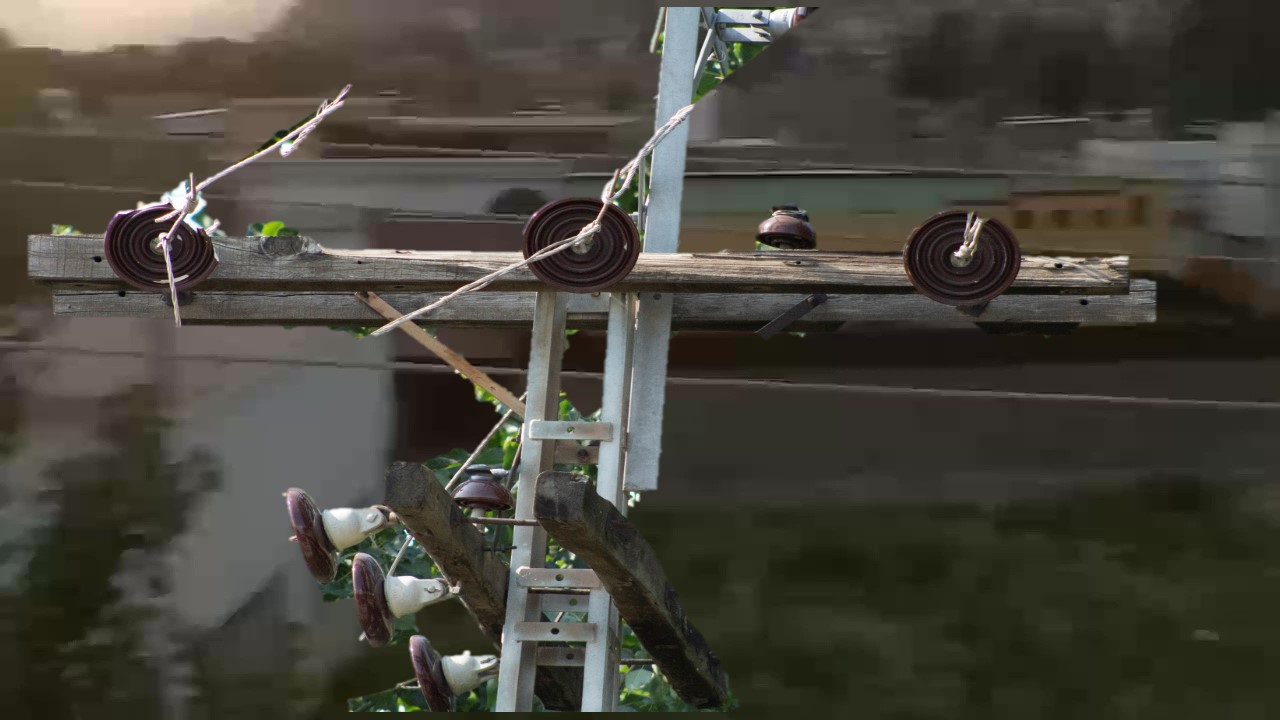defect_disc: (100, 194, 226, 299)
insulator_disc: (898, 197, 1028, 314), (517, 193, 647, 286), (281, 483, 378, 555), (347, 553, 434, 633), (396, 628, 484, 701)
insulator_pin: (753, 197, 827, 250), (453, 456, 516, 517)
